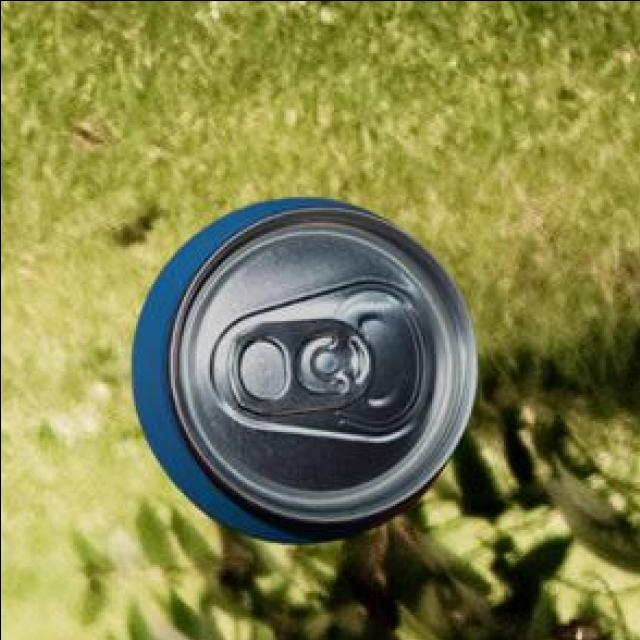logam: (134, 201, 480, 545)
